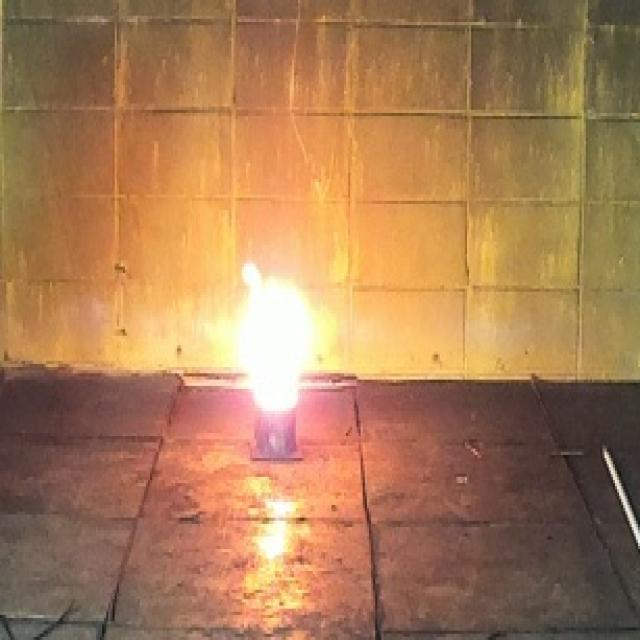Fire: (242, 263, 308, 412)
